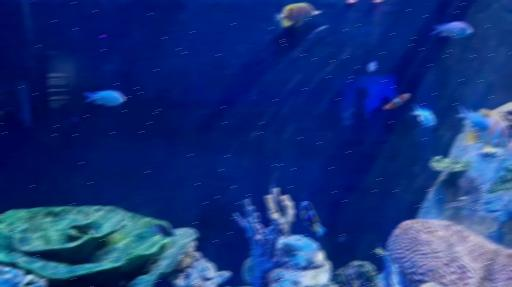Fish: (457, 107, 512, 151), (277, 2, 321, 27), (301, 202, 326, 236), (432, 21, 472, 38), (411, 104, 436, 127), (383, 93, 410, 110)
